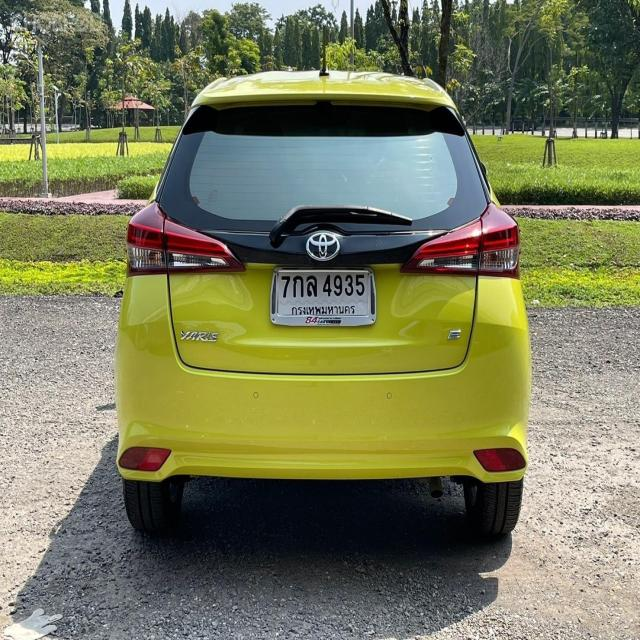license_plate: (268, 264, 379, 331)
